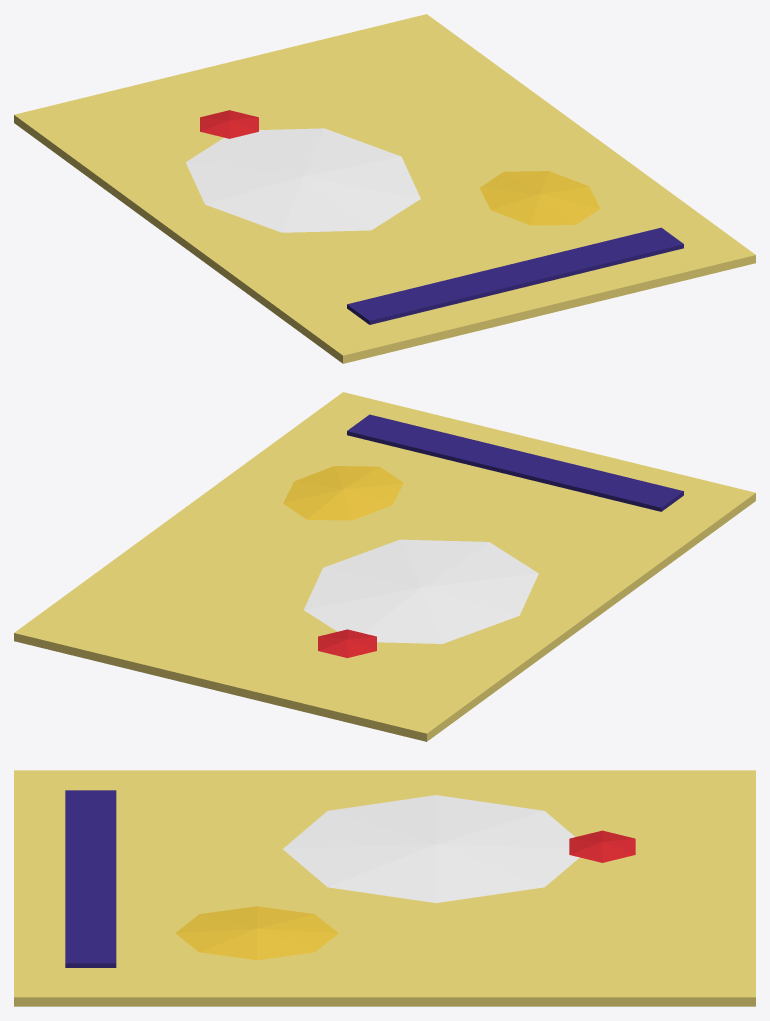
Rendered from magic_hen_flyer.glb.
The picture shows the model from 3 angles, top to bottom: view 1: azimuth 30°, elevation 25°; view 2: azimuth 150°, elevation 25°; view 3: azimuth 270°, elevation 25°; orthographic projection. The views are drawn at different scales.
Visible parts, largest first — view 1: paper_flyer_yellow, drawing_flyer_hen, drawing_flyer_ink, drawing_egg_gold, drawing_flyer_red; view 2: paper_flyer_yellow, drawing_flyer_hen, drawing_flyer_ink, drawing_egg_gold, drawing_flyer_red; view 3: paper_flyer_yellow, drawing_flyer_hen, drawing_flyer_ink, drawing_egg_gold, drawing_flyer_red.
Part boxes in pixels (x1,y1,x2,y2): paper_flyer_yellow: (14, 14, 755, 363); drawing_flyer_hen: (186, 128, 420, 232); drawing_flyer_ink: (347, 227, 683, 324); drawing_egg_gold: (480, 171, 600, 225); drawing_flyer_red: (200, 110, 258, 138); paper_flyer_yellow: (14, 392, 755, 741); drawing_flyer_hen: (304, 539, 538, 643); drawing_flyer_ink: (347, 414, 683, 511); drawing_egg_gold: (283, 466, 403, 520); drawing_flyer_red: (318, 629, 376, 657); paper_flyer_yellow: (14, 770, 755, 1006); drawing_flyer_hen: (283, 795, 579, 902); drawing_flyer_ink: (65, 790, 116, 967); drawing_egg_gold: (175, 906, 338, 960); drawing_flyer_red: (569, 830, 635, 862).
Size of the model in its own units: 0.21 by 0.008 by 0.29.
